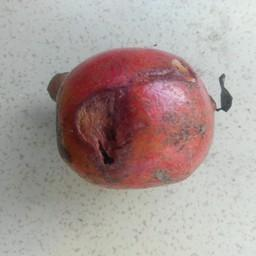Bad_pomegranate: (39, 46, 231, 202)
